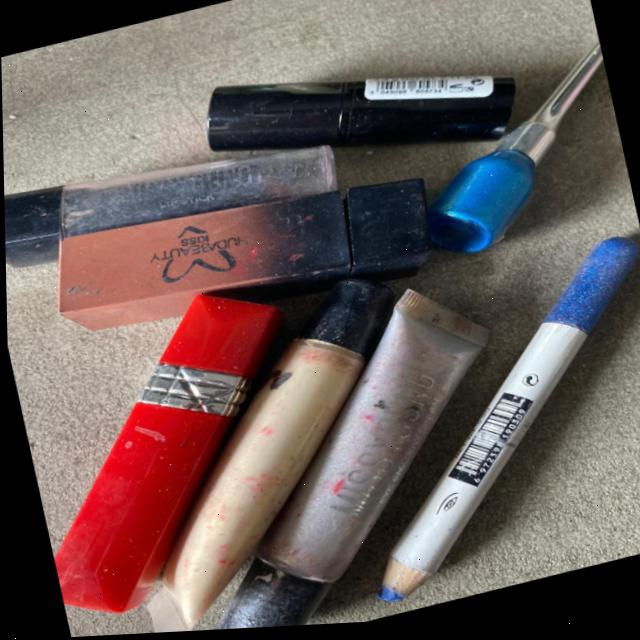lip gloss: (178, 284, 567, 633)
lip stick: (6, 290, 326, 621), (45, 145, 453, 348), (183, 15, 536, 189), (2, 111, 345, 275)
